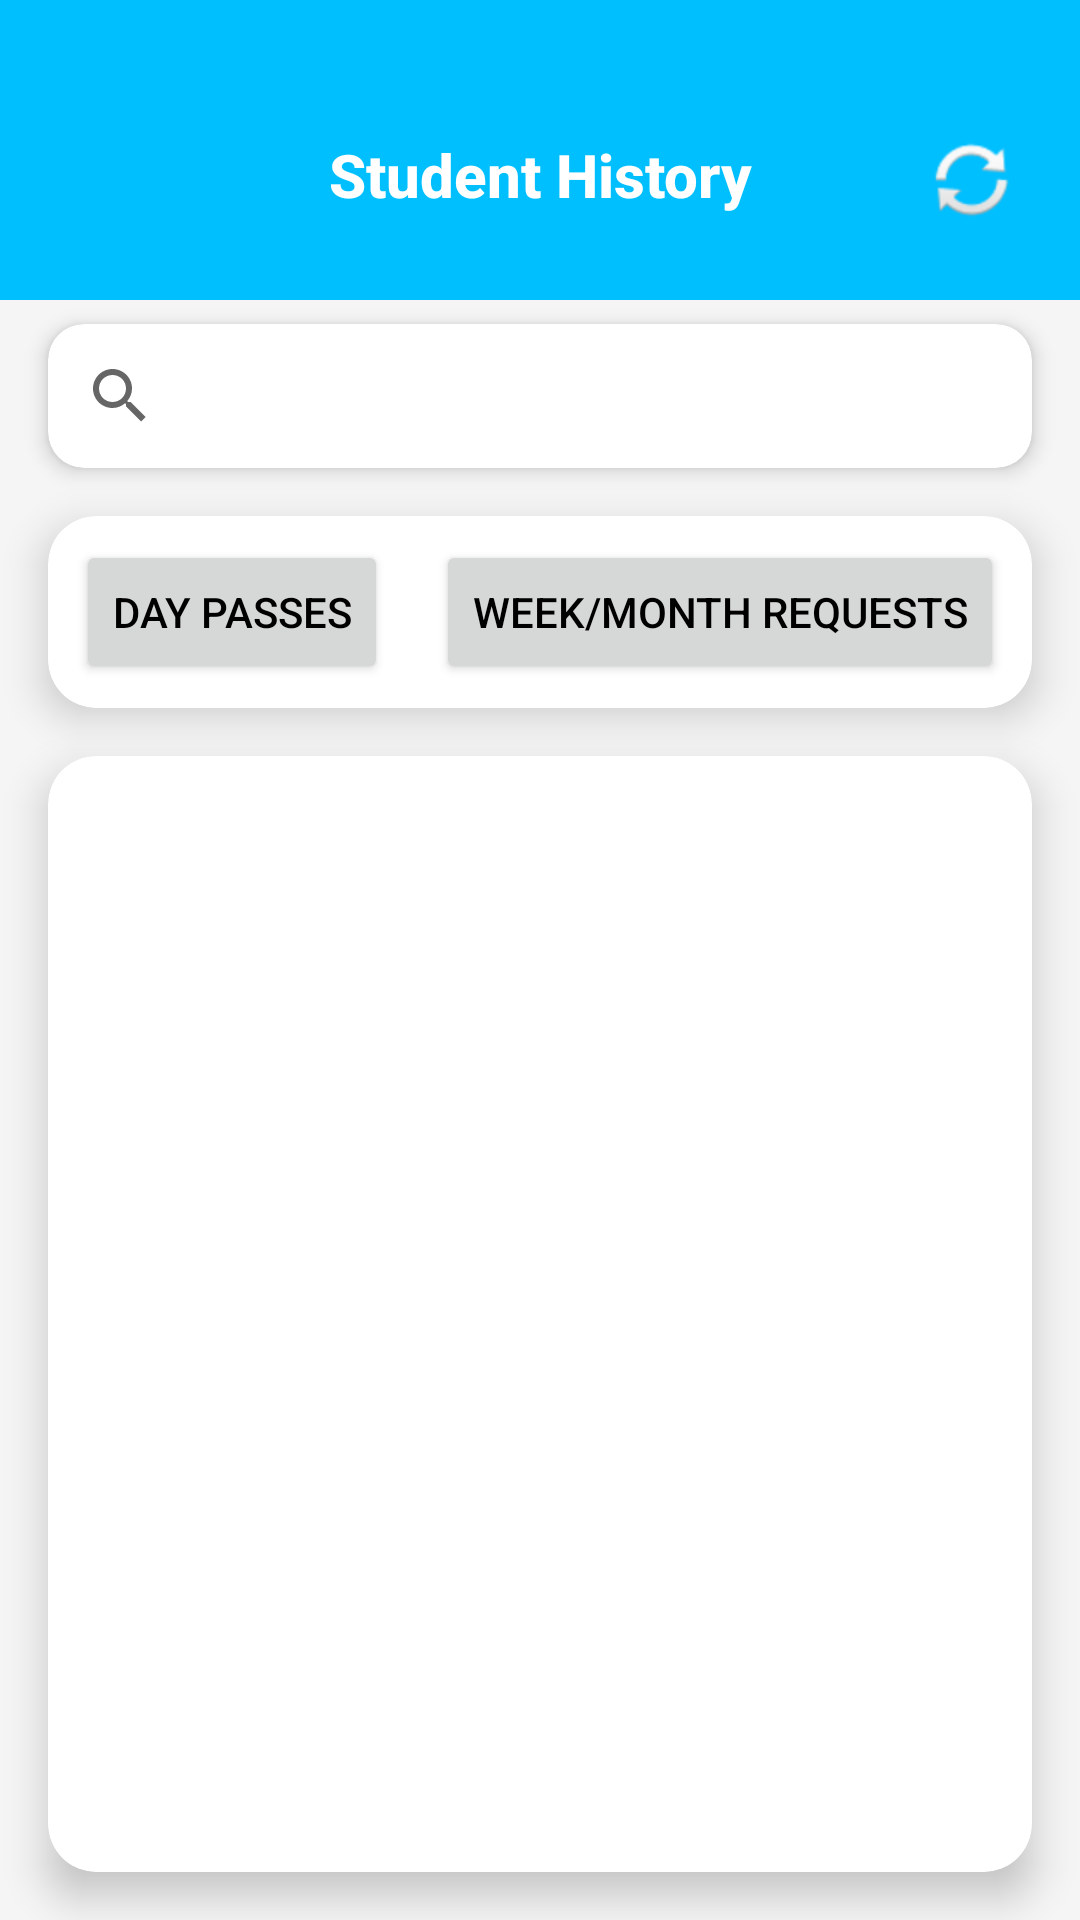

Icon bounding boxes for this 1080 x 1920 phone screenshot, format {"left": x1, "top": y1, "right": x2, "bottom": y2}:
Refresh: {"left": 935, "top": 144, "right": 1009, "bottom": 216}
